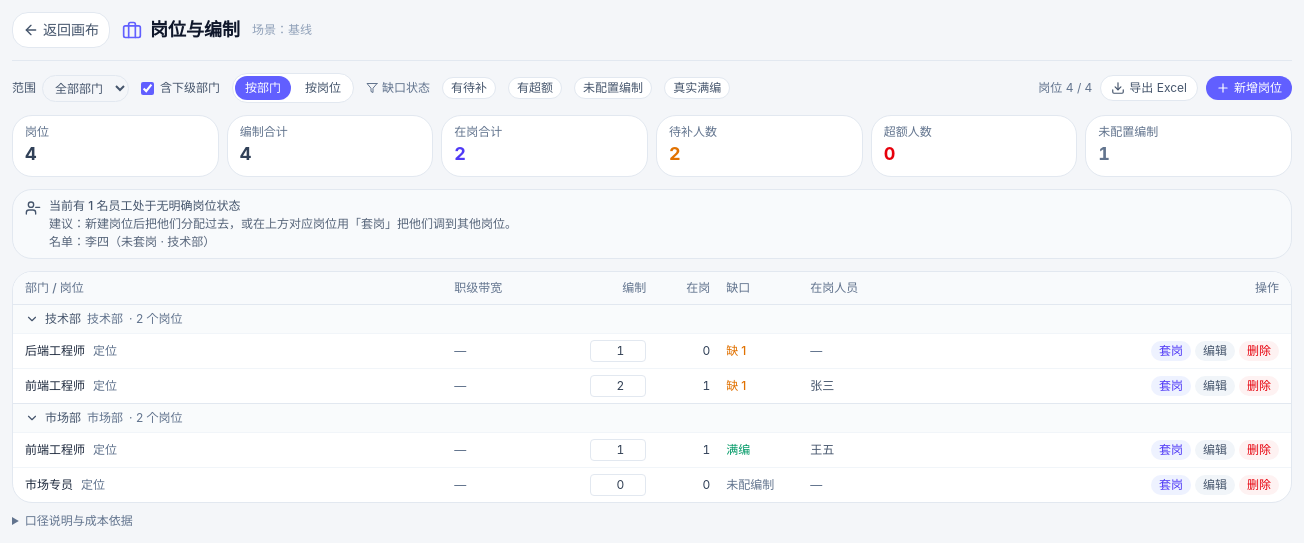
Scenario: V2.4.0 一个岗位名对应多个部门（双视图） › 按岗位视图：同名跨部门**合并成一行**并标注「分布在 N 个部门」
Click the button "按岗位". click: (323, 88)
box: [295,76,351,100]
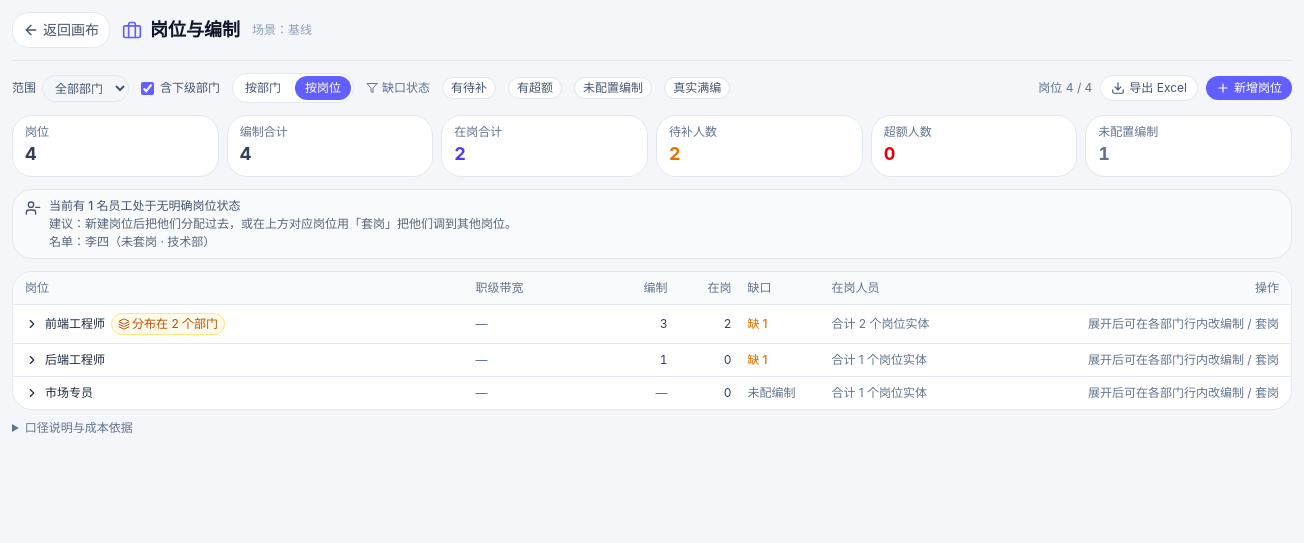
Expected: the row "前端工程师 分布在 2 个部门 — 3 2 缺 1 合计 2 个岗位实体 展开后可在各部门行内改编制 / 套岗" is shown, [13,304,1291,344]
